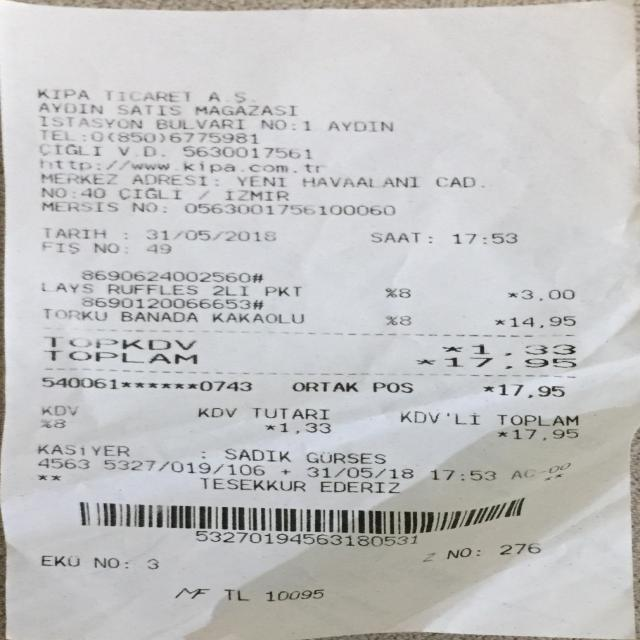text: (195, 528, 415, 548), (40, 159, 324, 174), (104, 459, 264, 478), (184, 202, 394, 216), (81, 294, 252, 311), (50, 334, 193, 352), (45, 348, 196, 364), (82, 270, 248, 283), (308, 464, 414, 481), (146, 228, 274, 242), (444, 356, 576, 369), (199, 476, 303, 492), (302, 174, 417, 188), (183, 146, 311, 158), (39, 114, 141, 129), (194, 102, 294, 117), (471, 342, 575, 356), (497, 409, 576, 427), (155, 115, 242, 131), (38, 442, 128, 457), (105, 87, 188, 103), (320, 478, 398, 495), (164, 130, 258, 144), (401, 407, 478, 424), (42, 375, 121, 391), (212, 309, 302, 323), (306, 448, 383, 464), (252, 405, 328, 421), (107, 282, 197, 295), (292, 378, 358, 395), (120, 307, 197, 321), (40, 172, 116, 186), (131, 172, 207, 186), (501, 381, 563, 398), (508, 460, 570, 477), (224, 446, 288, 462), (511, 426, 577, 441), (38, 100, 101, 115), (90, 130, 162, 143), (40, 200, 116, 212), (328, 118, 392, 132), (224, 188, 288, 202), (429, 466, 496, 479), (38, 142, 100, 156), (118, 186, 179, 200), (44, 226, 104, 240), (116, 102, 178, 115), (44, 306, 106, 319), (265, 586, 322, 600), (202, 377, 250, 393), (453, 231, 516, 243), (509, 316, 574, 327), (38, 86, 88, 100), (236, 174, 284, 188), (279, 421, 329, 434), (520, 288, 574, 300), (118, 143, 163, 157), (373, 380, 411, 396), (41, 282, 91, 294), (198, 404, 235, 420), (37, 457, 90, 468), (371, 231, 418, 243), (434, 175, 475, 188), (207, 89, 244, 103), (40, 552, 76, 566), (495, 542, 540, 552), (41, 240, 78, 252), (212, 283, 246, 296), (264, 284, 300, 296), (40, 127, 70, 141), (175, 586, 207, 599), (40, 404, 76, 415), (223, 586, 248, 600), (260, 117, 284, 131), (447, 547, 472, 559), (41, 185, 64, 198), (93, 554, 114, 568), (146, 242, 170, 254), (131, 201, 154, 213), (93, 240, 114, 253), (442, 342, 461, 356), (84, 185, 104, 198), (416, 356, 434, 368), (250, 270, 262, 284), (422, 552, 438, 562), (146, 556, 158, 569), (496, 426, 506, 441), (52, 416, 64, 428), (385, 314, 396, 325), (399, 314, 410, 325), (384, 286, 396, 296), (283, 463, 290, 479), (398, 286, 409, 296), (41, 416, 50, 428), (508, 288, 516, 300), (494, 316, 502, 328), (474, 544, 481, 557), (200, 188, 207, 200), (265, 420, 272, 432), (303, 118, 309, 131), (483, 381, 488, 396), (120, 241, 126, 253), (290, 117, 295, 131), (258, 296, 262, 310), (72, 185, 76, 198), (161, 201, 165, 213), (428, 231, 431, 243), (124, 556, 126, 568), (125, 227, 126, 240)
